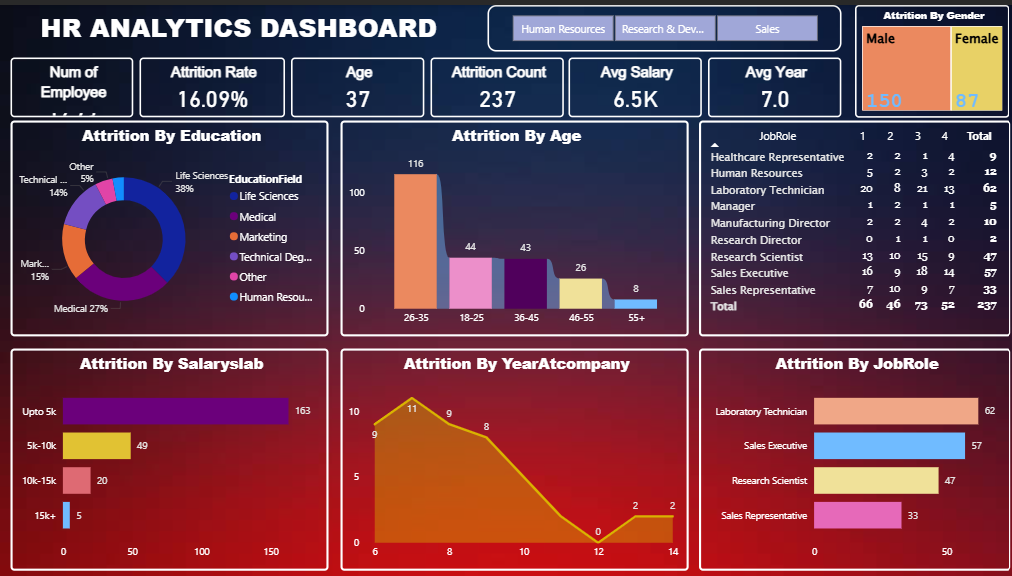

The page's visual inventory and layout, read from the dashboard file:
{"tool":"powerbi","page":{"name":"Page 1","canvas":[1280,720],"ordinal":0},"visuals":[{"type":"card","title":"Num of Employee","fields":{"Values":["CountNonNull(HR_Analytics.EmpID)"]},"box":[13.2,66.1,155,75.6],"z":0},{"type":"card","title":"Attrition Count","fields":{"Values":["Sum(HR_Analytics.AttritionCount)"]},"box":[542.4,66.1,168.2,75.6],"z":1000},{"type":"card","title":"Age","fields":{"Values":["Avg(HR_Analytics.Age)"]},"box":[366.6,66.1,168.2,75.6],"z":2000},{"type":"card","title":"Attrition Rate","fields":{"Values":["HR_Analytics.AttritionRate"]},"box":[175.7,66.1,183.3,75.6],"z":3000},{"type":"card","title":"Avg Salary","fields":{"Values":["Avg(HR_Analytics.MonthlyIncome)"]},"box":[716.2,66.1,168.2,75.6],"z":4000},{"type":"card","title":"Avg Year","fields":{"Values":["Avg(HR_Analytics.YearsAtCompany)"]},"box":[892,66.1,168.2,75.6],"z":5000},{"type":"donutChart","title":"Attrition By Education","fields":{"Category":["HR_Analytics.EducationField"],"Y":["Sum(HR_Analytics.AttritionCount)"]},"box":[13.2,145.5,400.6,272.1],"z":5001},{"type":"columnChart","title":"Attrition By Age","fields":{"Category":["HR_Analytics.AgeGroup"],"Y":["Sum(HR_Analytics.AttritionCount)"]},"box":[429,145.5,438.4,272.1],"z":5002},{"type":"pivotTable","fields":{"Rows":["HR_Analytics.JobRole"],"Columns":["HR_Analytics.JobSatisfaction"],"Values":["Sum(HR_Analytics.AttritionCount)"]},"box":[880.6,145.5,393.1,272.1],"z":5003},{"type":"clusteredBarChart","title":"Attrition By Salaryslab","fields":{"Category":["HR_Analytics.SalarySlab"],"Y":["Sum(HR_Analytics.AttritionCount)"]},"box":[13.2,432.8,400.6,279.7],"z":5004},{"type":"clusteredBarChart","title":"Attrition By JobRole","fields":{"Y":["Sum(HR_Analytics.AttritionCount)"],"Category":["HR_Analytics.JobRole"]},"box":[880.6,432.8,393.1,279.7],"z":5005},{"type":"areaChart","title":"Attrition By YearAtcompany","fields":{"Y":["Sum(HR_Analytics.AttritionCount)"],"Category":["HR_Analytics.YearsAtCompany"]},"box":[429,432.8,438.4,279.7],"z":5006},{"type":"treemap","title":"Attrition By Gender","fields":{"Group":["HR_Analytics.Gender"],"Values":["Sum(HR_Analytics.AttritionCount)"]},"box":[1077.2,0,194.6,141.7],"z":5007},{"type":"slicer","fields":{"Values":["HR_Analytics.Department"]},"box":[614.2,0,446,58.6],"z":5008},{"type":"textbox","box":[0,0,602,64],"z":5009}]}

Visuals, with their boxes in screenshot pixels (x1, y1, x2, y2), scaled from the page's 1280x720 canvas onto the 1012x576 screenshot:
"Num of Employee" card: [left=10, top=53, right=133, bottom=113]
"Attrition Count" card: [left=429, top=53, right=562, bottom=113]
"Age" card: [left=290, top=53, right=423, bottom=113]
"Attrition Rate" card: [left=139, top=53, right=284, bottom=113]
"Avg Salary" card: [left=566, top=53, right=699, bottom=113]
"Avg Year" card: [left=705, top=53, right=838, bottom=113]
"Attrition By Education" donutChart: [left=10, top=116, right=327, bottom=334]
"Attrition By Age" columnChart: [left=339, top=116, right=686, bottom=334]
pivotTable - HR_Analytics.JobRole x HR_Analytics.JobSatisfaction: [left=696, top=116, right=1007, bottom=334]
"Attrition By Salaryslab" clusteredBarChart: [left=10, top=346, right=327, bottom=570]
"Attrition By JobRole" clusteredBarChart: [left=696, top=346, right=1007, bottom=570]
"Attrition By YearAtcompany" areaChart: [left=339, top=346, right=686, bottom=570]
"Attrition By Gender" treemap: [left=852, top=0, right=1006, bottom=113]
slicer - HR_Analytics.Department: [left=486, top=0, right=838, bottom=47]
textbox: [left=0, top=0, right=476, bottom=51]
